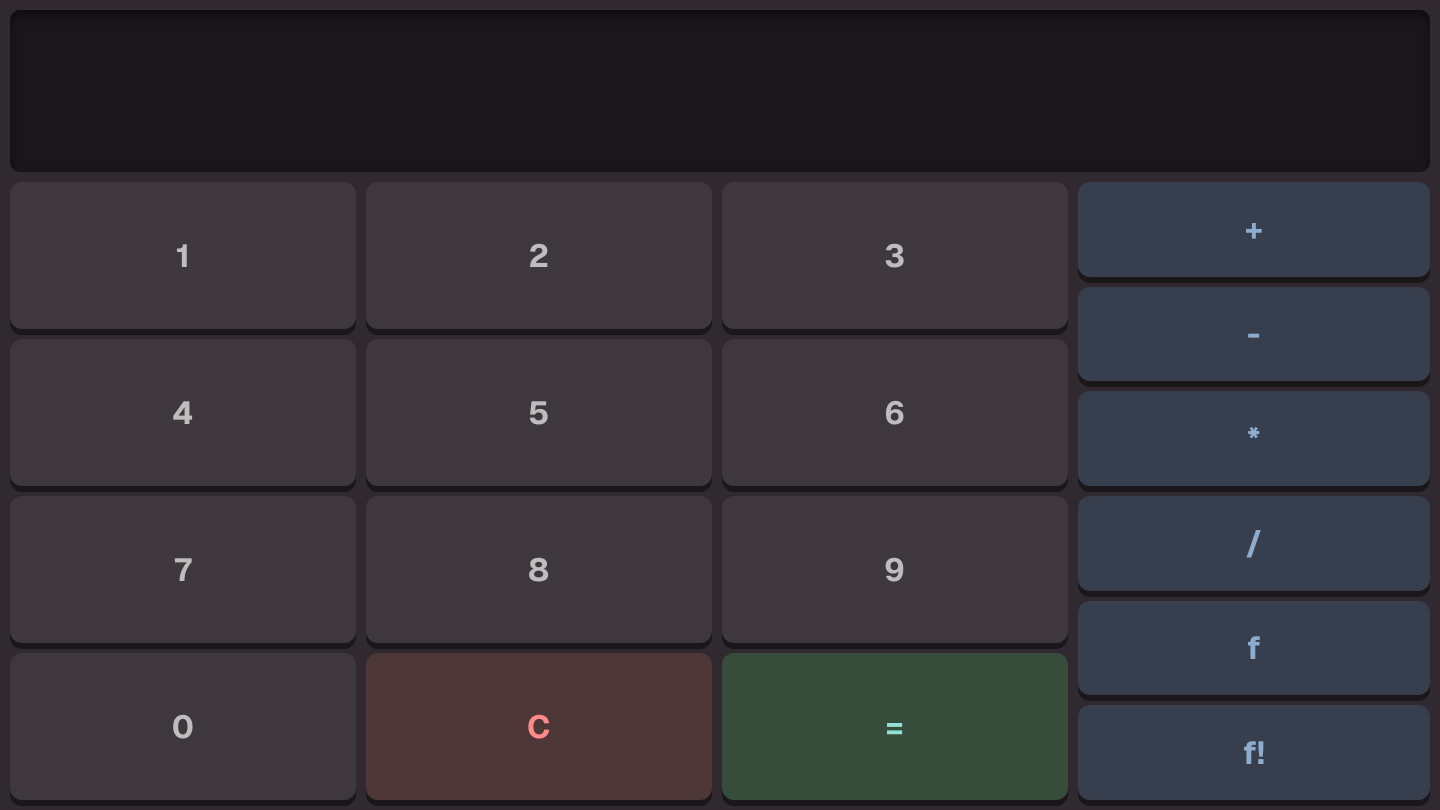
Test case: Calculator Component › calculates Fibonacci correctly
Click the button "6": (895,412) x1=722 y1=339 x2=1068 y2=486
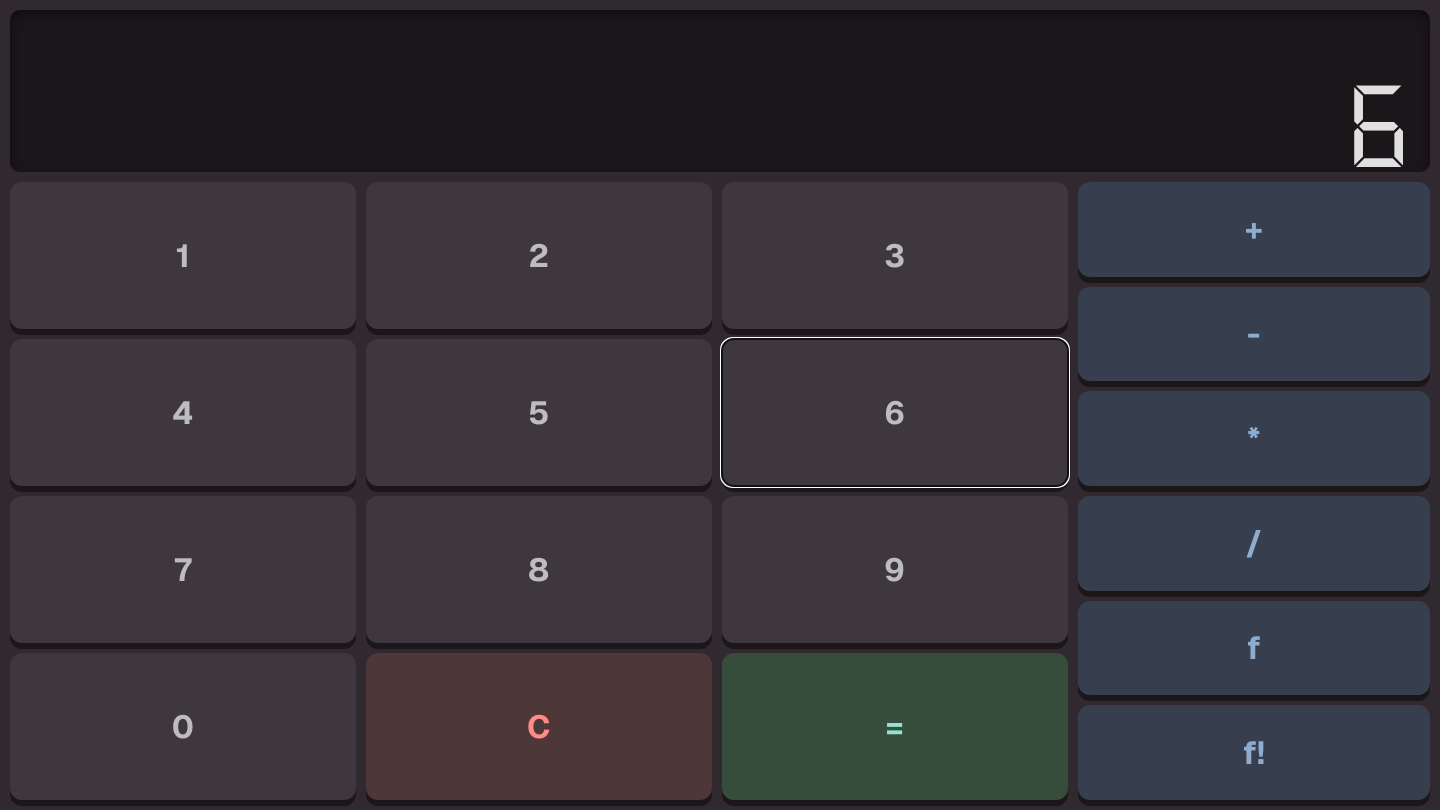
Click the button "f": (1254,648) x1=1078 y1=601 x2=1430 y2=695
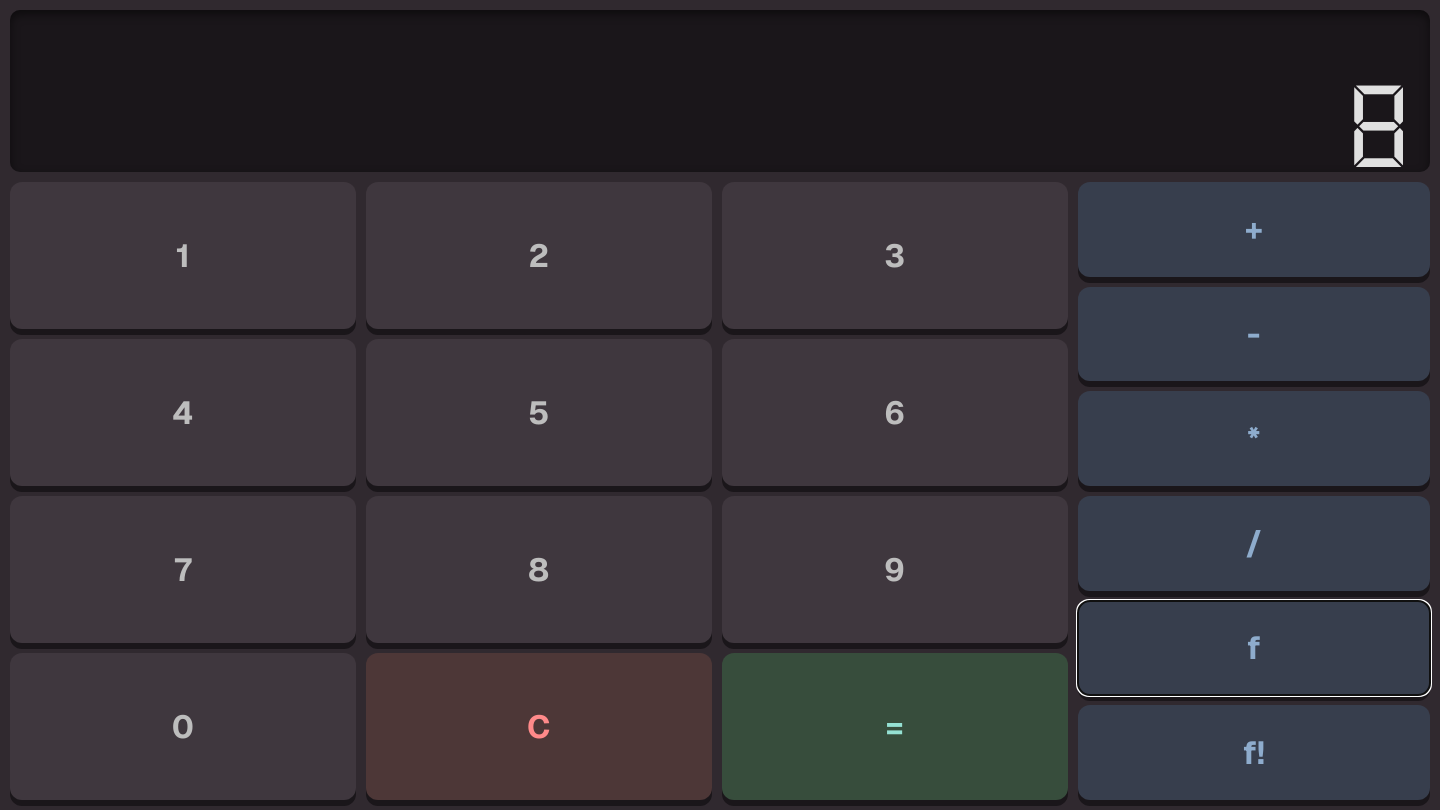
Expected: the text box holds "8", x1=10 y1=10 x2=1430 y2=172
